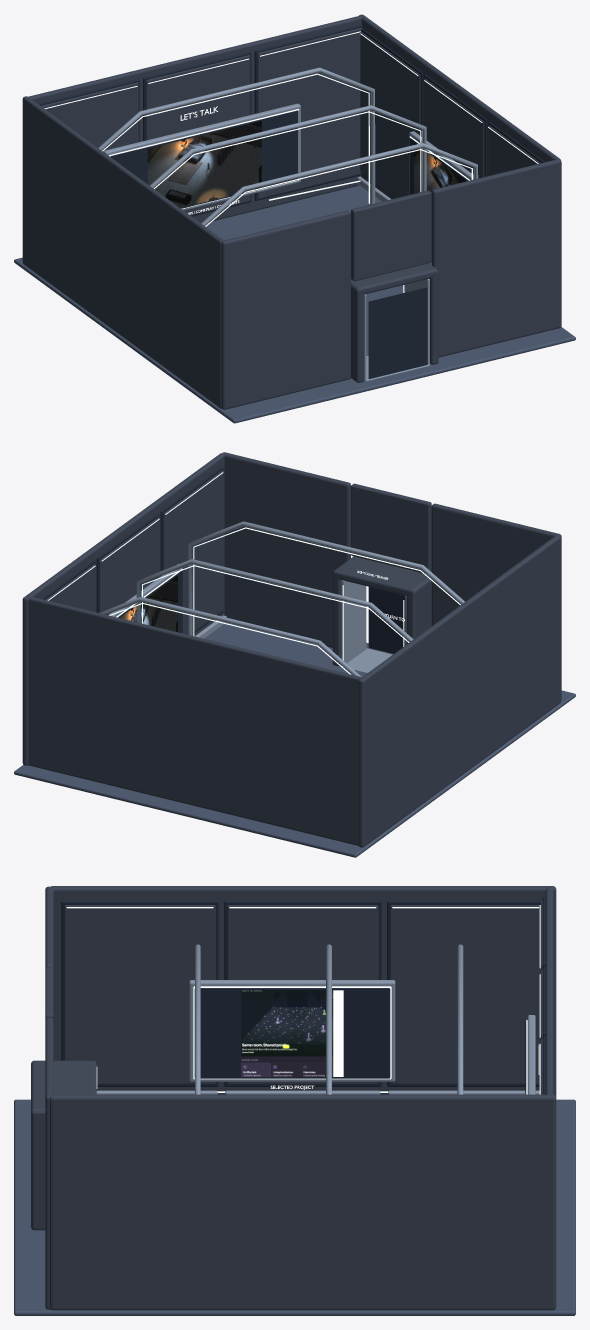
The model's file is signal.glb.
The picture shows the model from 3 angles, top to bottom: view 1: azimuth 30°, elevation 25°; view 2: azimuth 150°, elevation 25°; view 3: azimuth 270°, elevation 25°; orthographic projection. The views are drawn at different scales.
Visible parts, largest first — view 1: V14 signal / V14 signal / shell.004 finish, V14 signal / Lateral hull.008, V14 signal / Rear hull wing.008, V14 signal / Rear hull wing.009, V14 signal / Continuous satin deck.004, V14 signal / V14 signal / dark.004 finish, V14 signal / Original artwork / providence-apartment.008, V14 signal / Front hull.004, V14 signal / Return aperture.004, V14 signal / V14 signal / metal.004 finish, V14 signal / Lateral hull.009, V14 signal / Communication canopy.033 (+8 smaller); view 2: V14 signal / Front hull.004, V14 signal / Lateral hull.008, V14 signal / V14 signal / shell.004 finish, V14 signal / Rear hull wing.009, V14 signal / Continuous satin deck.004, V14 signal / Rear hull wing.008, V14 signal / Lateral hull.009, V14 signal / V14 signal / metal.004 finish, V14 signal / Return aperture.004, V14 signal / V14 signal / dark.004 finish, V14 signal / Original artwork / providence-apartment.009, V14 signal / Communication canopy.035 (+5 smaller); view 3: V14 signal / Lateral hull.009, V14 signal / V14 signal / shell.004 finish, V14 signal / V14 signal / dark.004 finish, V14 signal / Lateral hull.008, V14 signal / Continuous satin deck.004, V14 signal / Original artwork / hologravity.004, V14 signal / V14 signal / metal.004 finish, V14 signal / Front hull.004, V14 signal / Rear hull wing.009, V14 signal / V14 signal / accent.004 finish, V14 signal / V14 signal / white.004 finish, V14 signal / Rear hull wing.008 (+3 smaller).
Boxes of the visible parts, left/top/right/bottom form: V14 signal / V14 signal / shell.004 finish: left=41, top=28, right=540, bottom=382; V14 signal / Lateral hull.008: left=22, top=96, right=223, bottom=408; V14 signal / Rear hull wing.008: left=221, top=210, right=350, bottom=409; V14 signal / Rear hull wing.009: left=431, top=159, right=561, bottom=357; V14 signal / Continuous satin deck.004: left=14, top=185, right=575, bottom=423; V14 signal / V14 signal / dark.004 finish: left=38, top=24, right=544, bottom=216; V14 signal / Original artwork / providence-apartment.008: left=147, top=121, right=261, bottom=207; V14 signal / Front hull.004: left=28, top=15, right=362, bottom=222; V14 signal / Return aperture.004: left=368, top=287, right=427, bottom=378; V14 signal / V14 signal / metal.004 finish: left=103, top=103, right=473, bottom=381; V14 signal / Lateral hull.009: left=359, top=14, right=560, bottom=199; V14 signal / Communication canopy.033: left=230, top=67, right=375, bottom=204; V14 signal / Front hull.004: left=27, top=596, right=362, bottom=845; V14 signal / Lateral hull.008: left=358, top=535, right=560, bottom=847; V14 signal / V14 signal / shell.004 finish: left=46, top=470, right=431, bottom=666; V14 signal / Rear hull wing.009: left=222, top=452, right=350, bottom=647; V14 signal / Continuous satin deck.004: left=14, top=622, right=575, bottom=857; V14 signal / Rear hull wing.008: left=431, top=503, right=561, bottom=700; V14 signal / Lateral hull.009: left=22, top=453, right=224, bottom=765; V14 signal / V14 signal / metal.004 finish: left=108, top=564, right=406, bottom=673; V14 signal / Return aperture.004: left=368, top=587, right=405, bottom=653; V14 signal / V14 signal / dark.004 finish: left=41, top=466, right=223, bottom=633; V14 signal / Original artwork / providence-apartment.009: left=120, top=575, right=177, bottom=632; V14 signal / Communication canopy.035: left=188, top=521, right=333, bottom=635; V14 signal / Lateral hull.009: left=50, top=1094, right=556, bottom=1310; V14 signal / V14 signal / shell.004 finish: left=31, top=901, right=542, bottom=1230; V14 signal / V14 signal / dark.004 finish: left=61, top=897, right=545, bottom=1094; V14 signal / Lateral hull.008: left=51, top=886, right=556, bottom=1096; V14 signal / Continuous satin deck.004: left=14, top=1099, right=575, bottom=1315; V14 signal / Original artwork / hologravity.004: left=241, top=990, right=343, bottom=1076; V14 signal / V14 signal / metal.004 finish: left=96, top=980, right=539, bottom=1094; V14 signal / Front hull.004: left=545, top=887, right=553, bottom=1094; V14 signal / Rear hull wing.009: left=45, top=1017, right=53, bottom=1309; V14 signal / V14 signal / accent.004 finish: left=193, top=986, right=527, bottom=1094; V14 signal / V14 signal / white.004 finish: left=66, top=905, right=540, bottom=1094; V14 signal / Rear hull wing.008: left=45, top=886, right=53, bottom=968.
Bounding box in the file's own units: 19.2 × 9.2 × 21.4.
10 materials, 3 textured.
